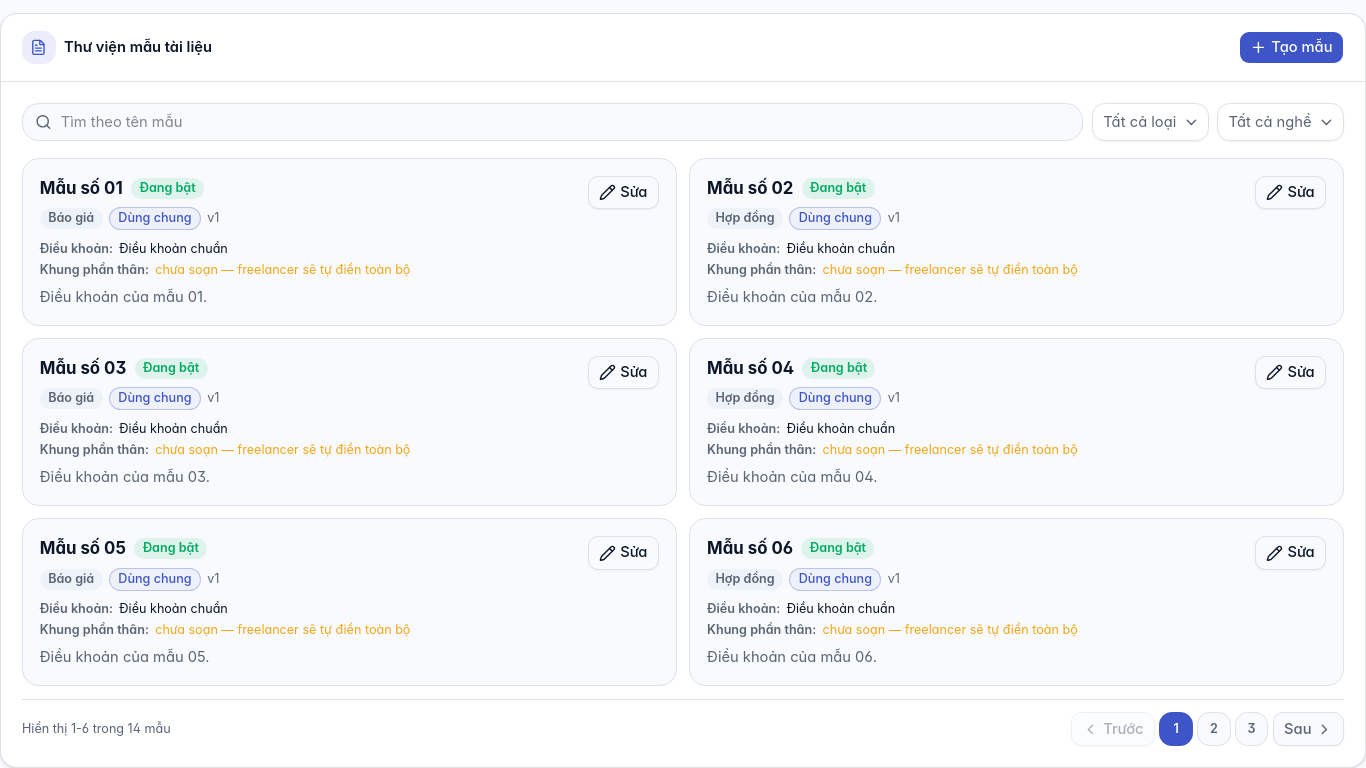
<AdminTemplatesPage /> — tìm theo tên › gõ tìm khi đang ở trang 2 thì về trang 1 của kết quả
This screenshot has width=1366, height=768.
(page scrolled)
Click the button named "Trang 2".
click(1214, 729)  # box x1=1197 y1=712 x2=1231 y2=746
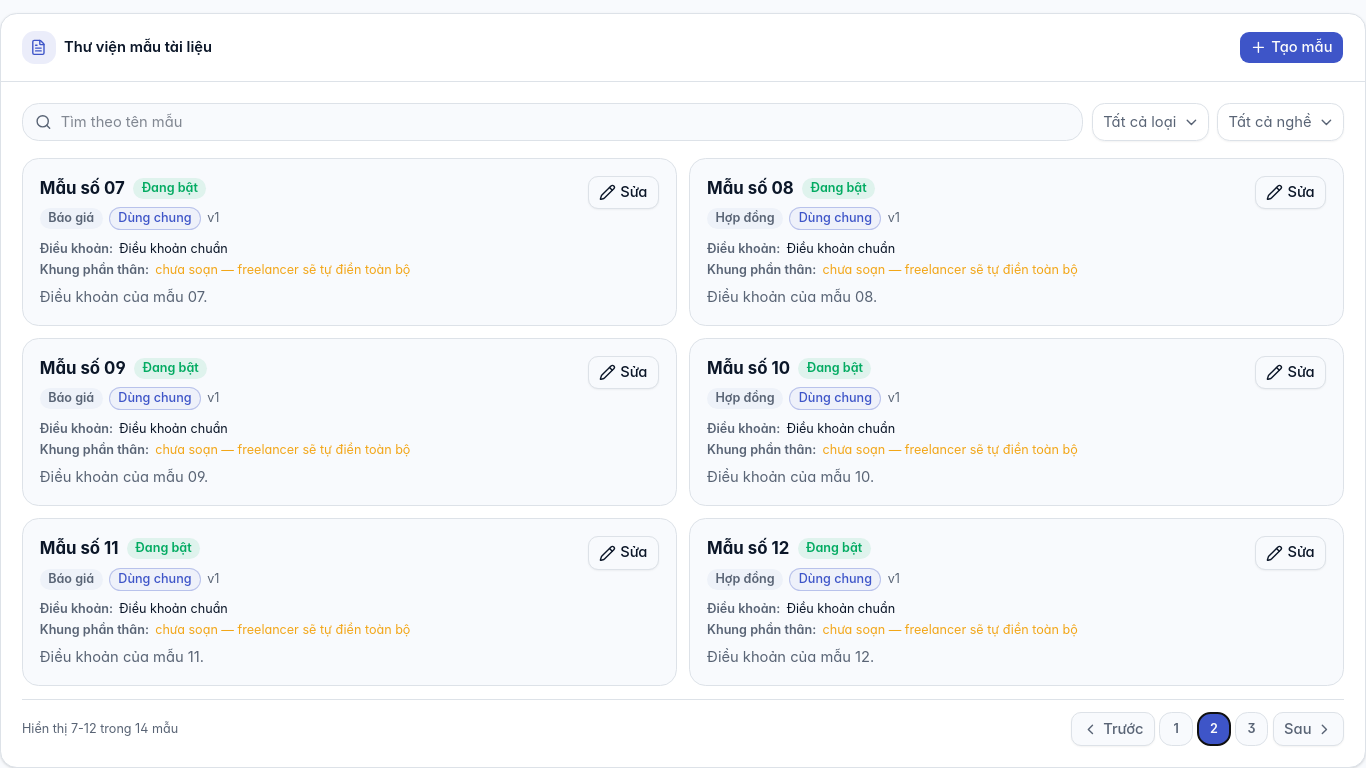
Check: the text "Hiển thị 7-12 trong 14 mẫu" is shown, box x1=22 y1=721 x2=178 y2=738
Type "mau so 1" into the field named "Tìm mẫu theo tên".
click(553, 122); type("mau so 1")  # box x1=22 y1=103 x2=1083 y2=141
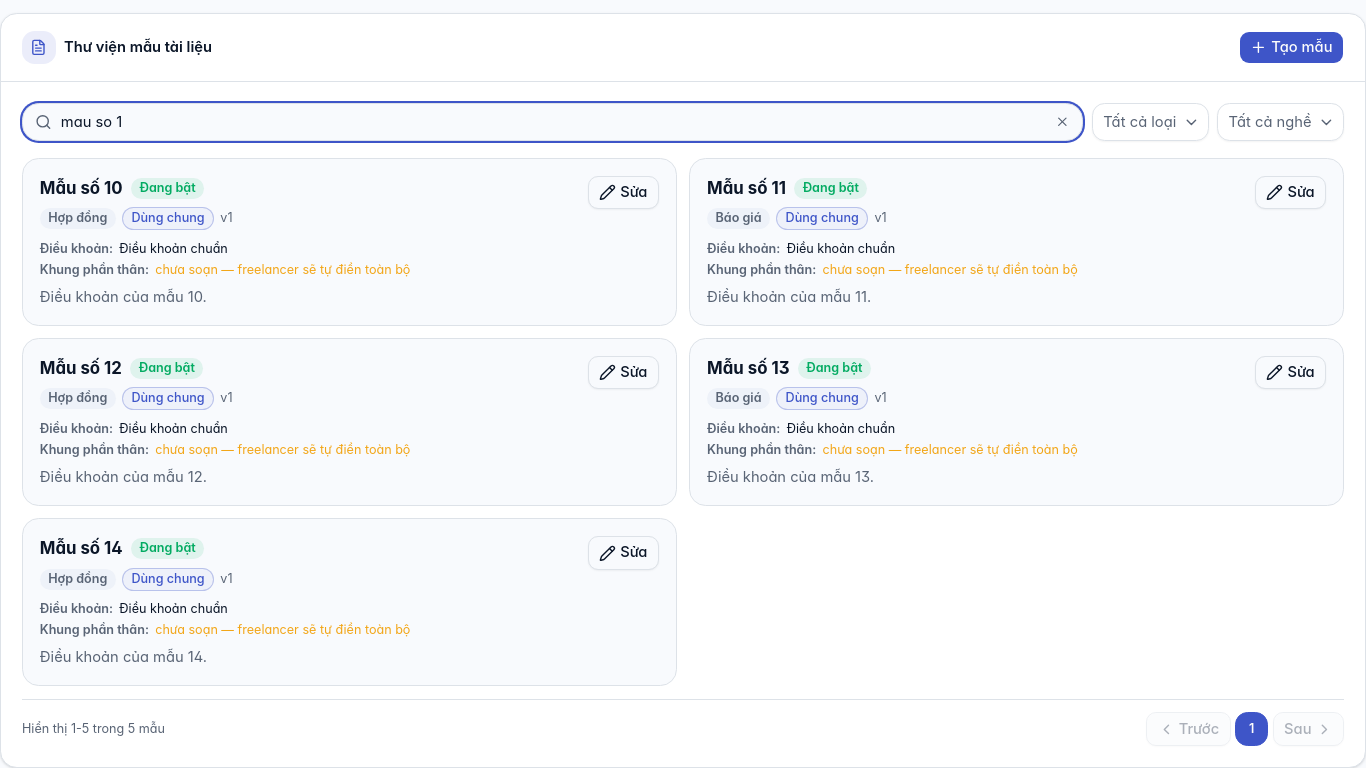
Check: the heading "Mẫu số 10" is shown, box x1=40 y1=176 x2=123 y2=201
Check: the text "Hiển thị 1-5 trong 5 mẫu" is shown, box x1=22 y1=721 x2=165 y2=738
Check: the heading "Mẫu số 14" is shown, box x1=40 y1=536 x2=123 y2=561
